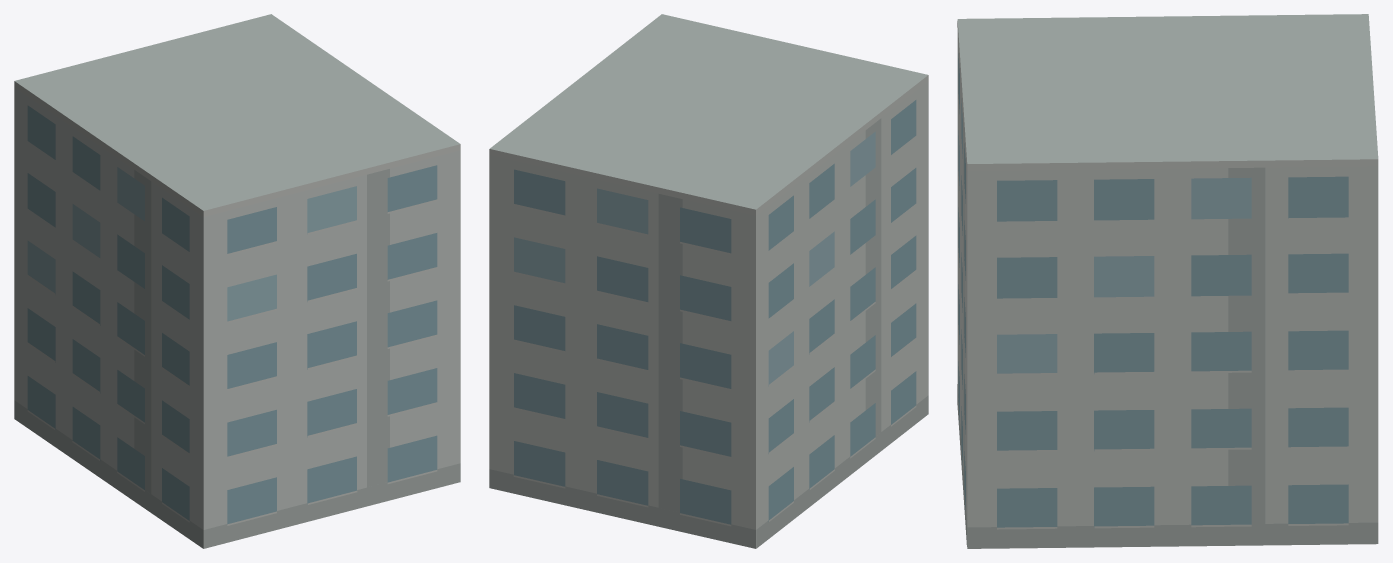
File: survey-upis-32796294.glb
The picture shows the model from 3 angles, left to right: view 1: azimuth 30°, elevation 25°; view 2: azimuth 150°, elevation 25°; view 3: azimuth 270°, elevation 25°; orthographic projection. The views are drawn at different scales.
Parts seen in each view (by area): view 1: survey-upis-32796294.tmp; view 2: survey-upis-32796294.tmp; view 3: survey-upis-32796294.tmp.
Part boxes in pixels (bbox=[...]): survey-upis-32796294.tmp: bbox=[14, 14, 460, 548]; survey-upis-32796294.tmp: bbox=[489, 14, 928, 548]; survey-upis-32796294.tmp: bbox=[957, 14, 1378, 548].
Bounding box in the file's own units: 11.05 × 13.2 × 13.1.
